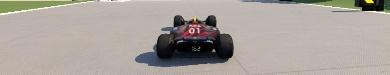Car: (155, 14, 233, 58)
curve: (0, 0, 389, 73)
